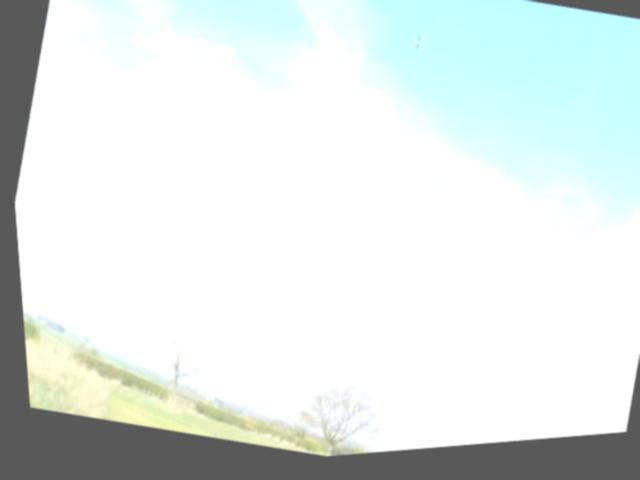iha: (400, 38, 433, 64)
